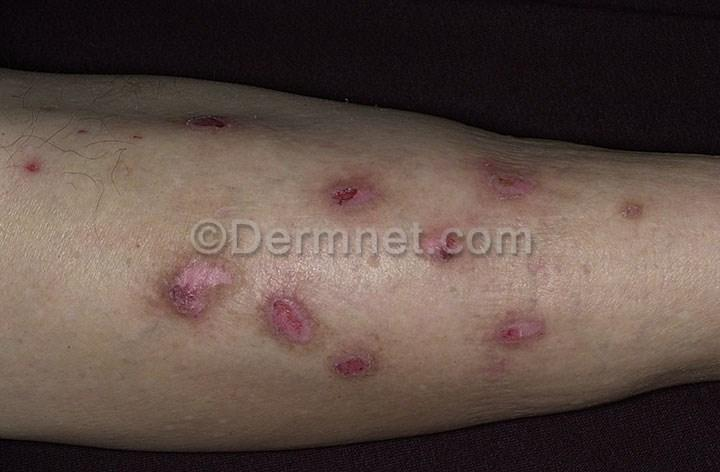Eczema: (124, 269, 387, 392), (392, 265, 582, 418), (0, 80, 161, 202), (271, 148, 456, 228), (456, 131, 560, 221), (599, 149, 691, 240), (182, 96, 260, 164)
